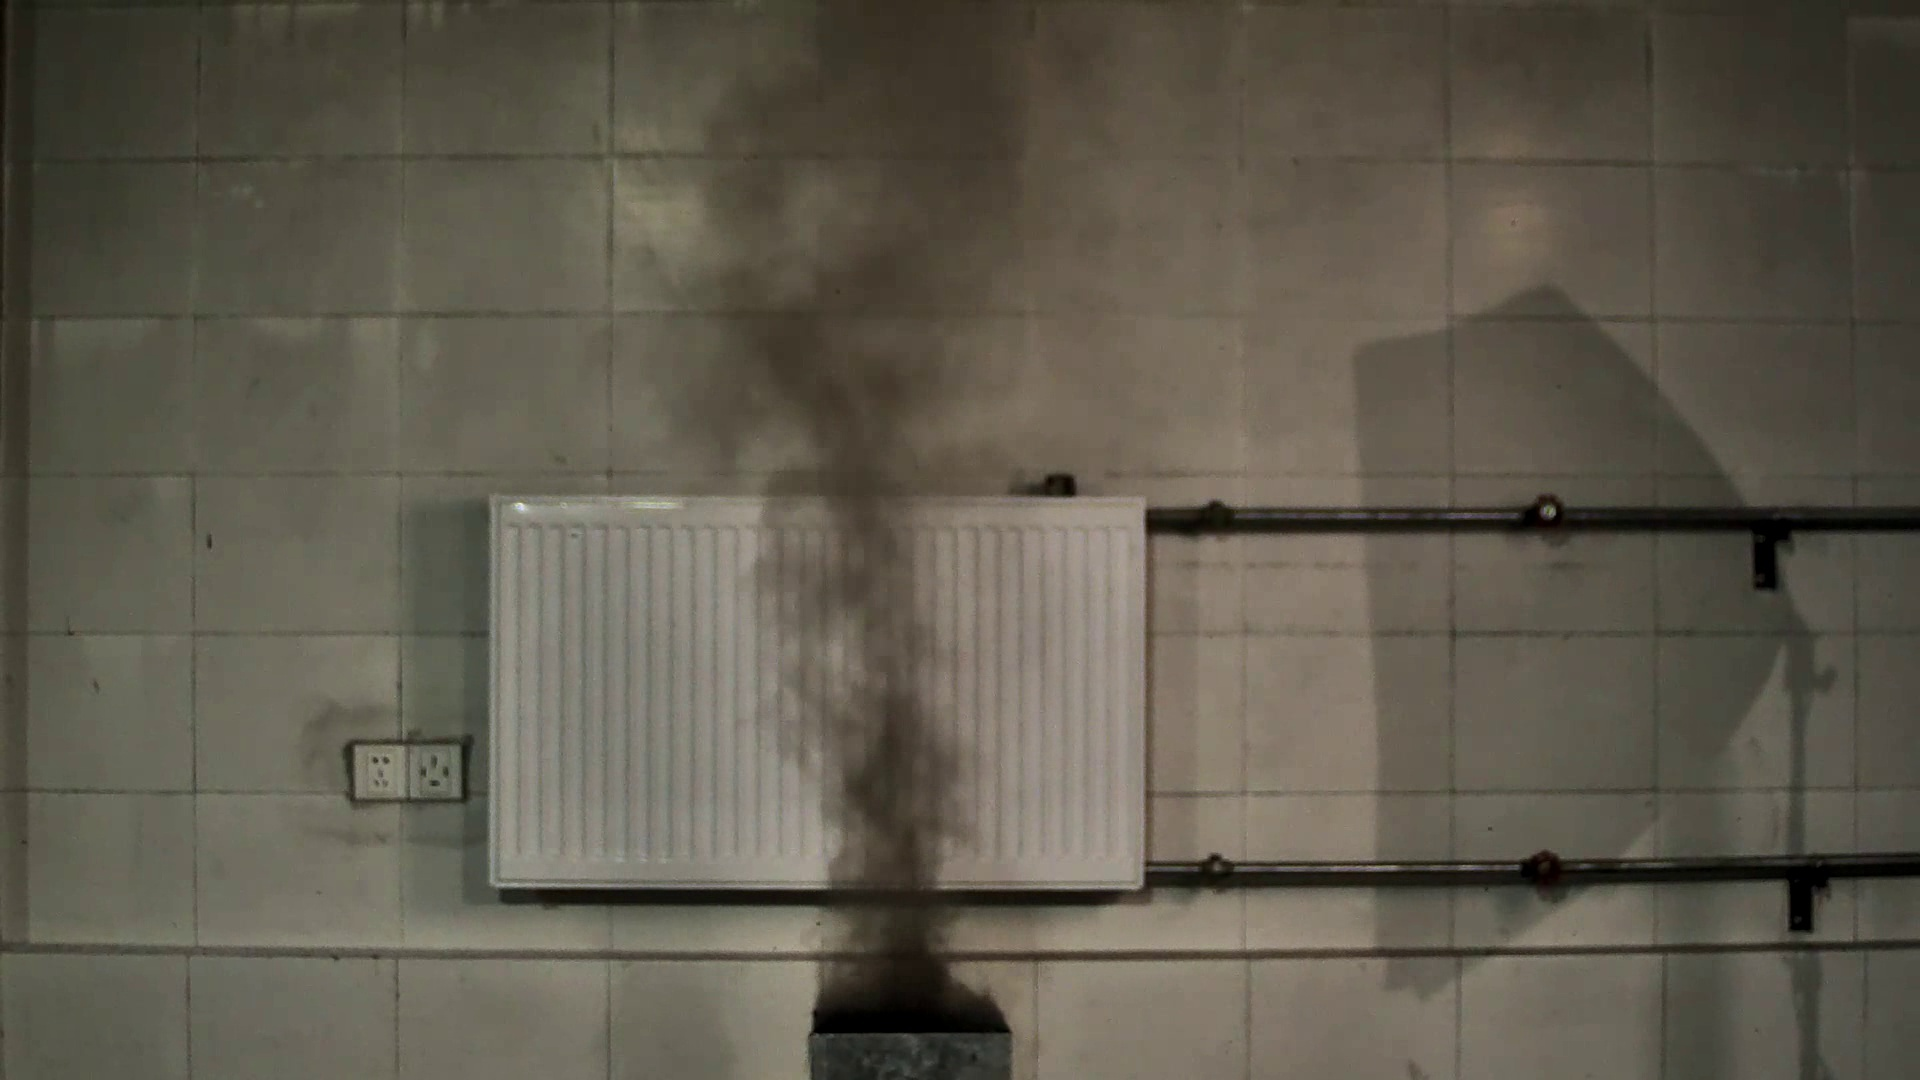smoke: (626, 22, 1052, 1000)
